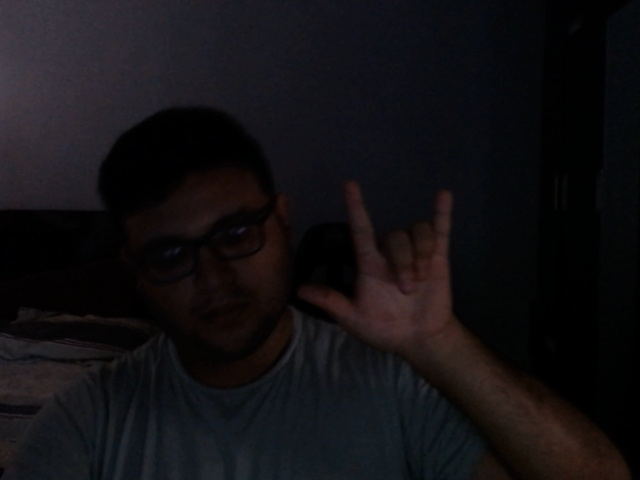I love you: (296, 176, 461, 350)
